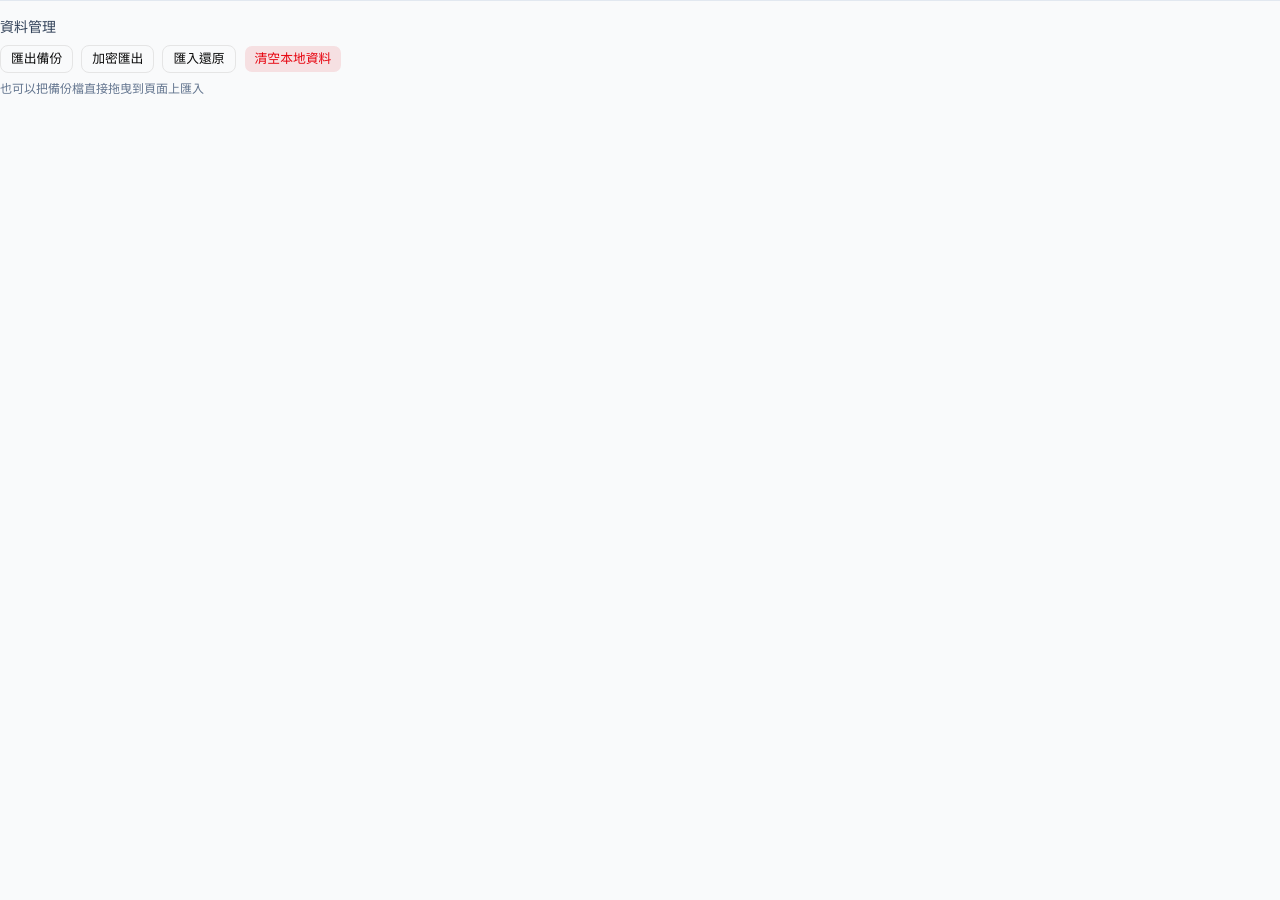
Test: DataManagement › 加密匯出 › 密碼少於 6 個字元：顯示錯誤，不呼叫匯出、不關閉對話框
Click the button "加密匯出" at (118, 59), box [81,45,154,73]
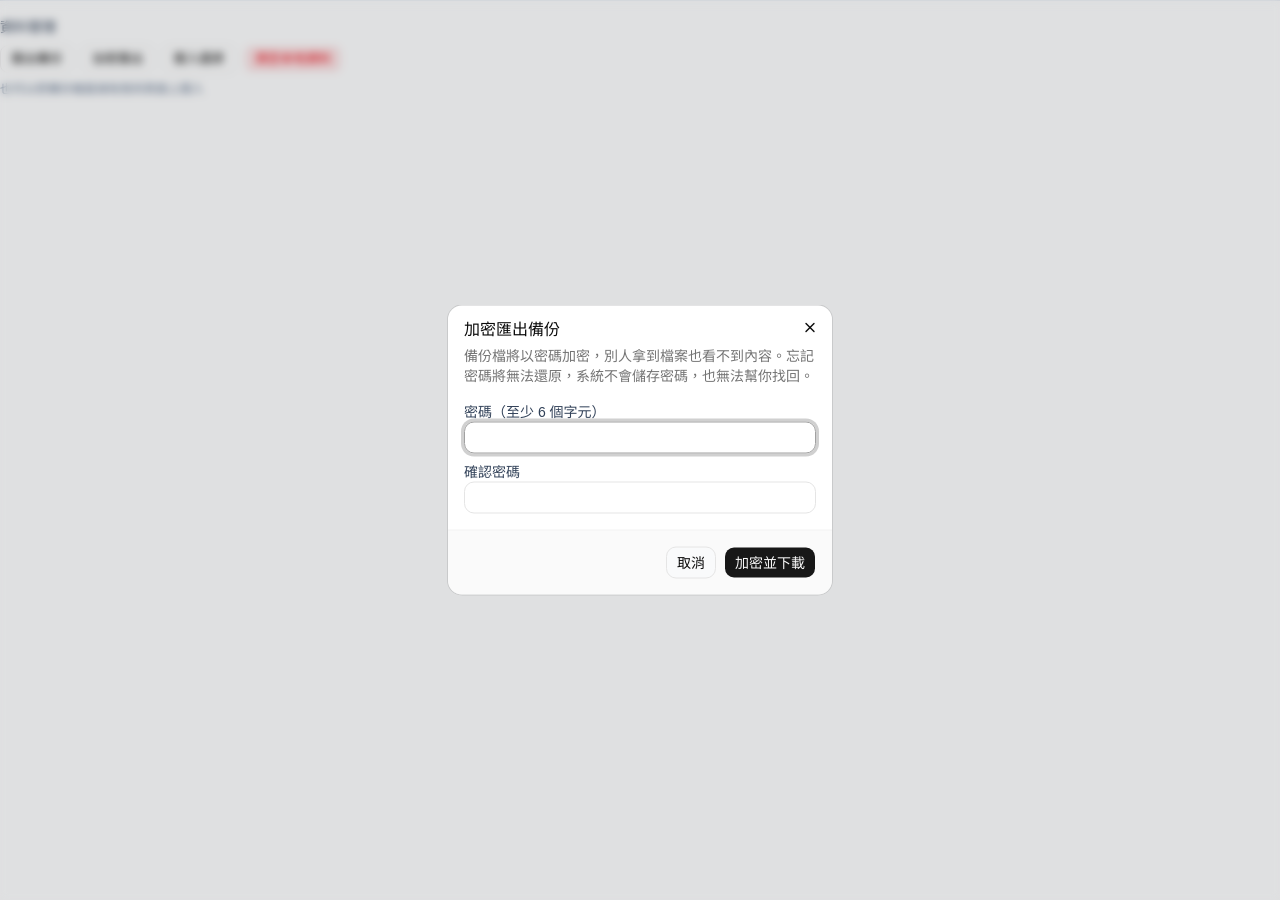
Type "12345" into the password field named "加密密碼" at (640, 438), box [464,422,816,454]
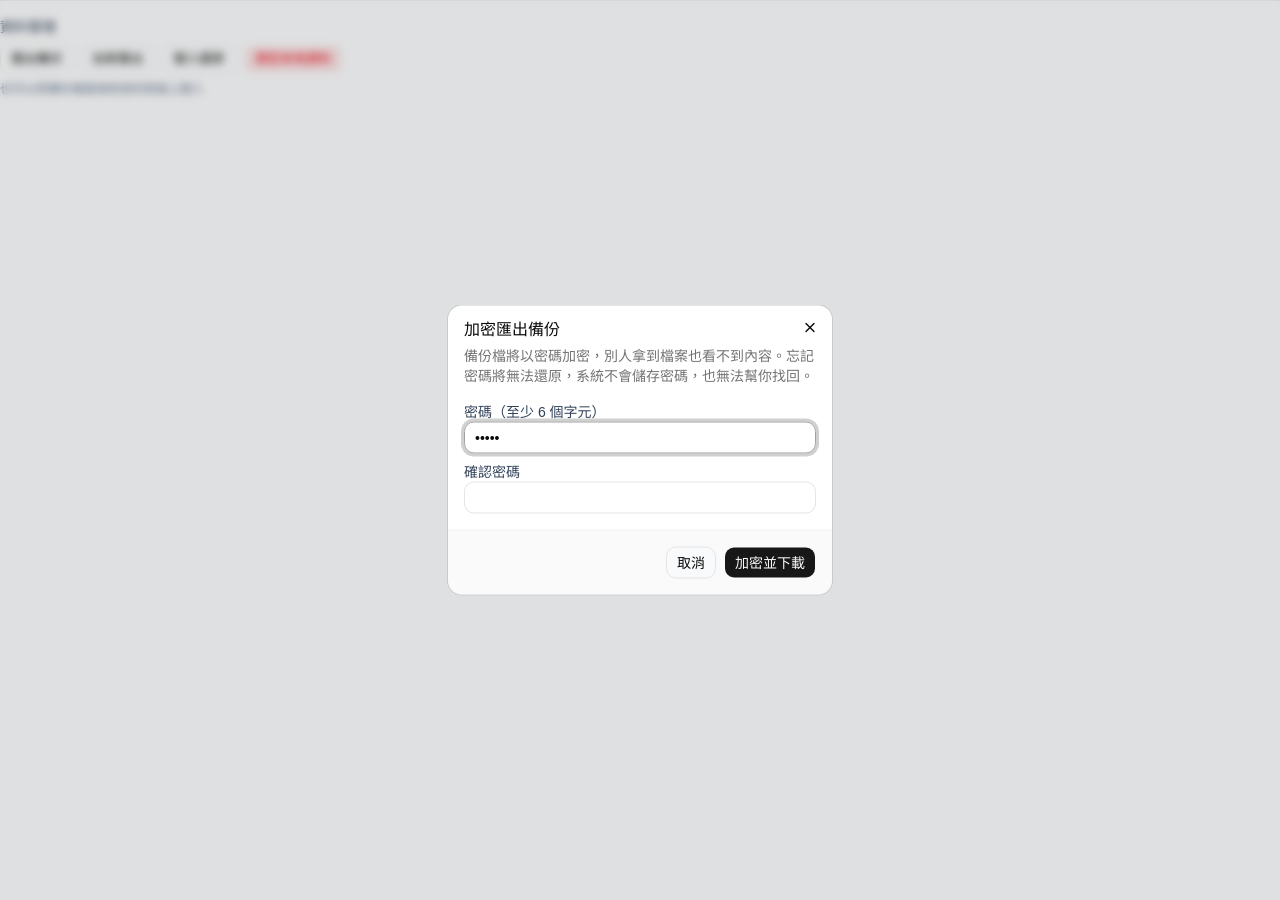
Type "12345" into the password field named "確認加密密碼" at (640, 498), box [464,482,816,514]
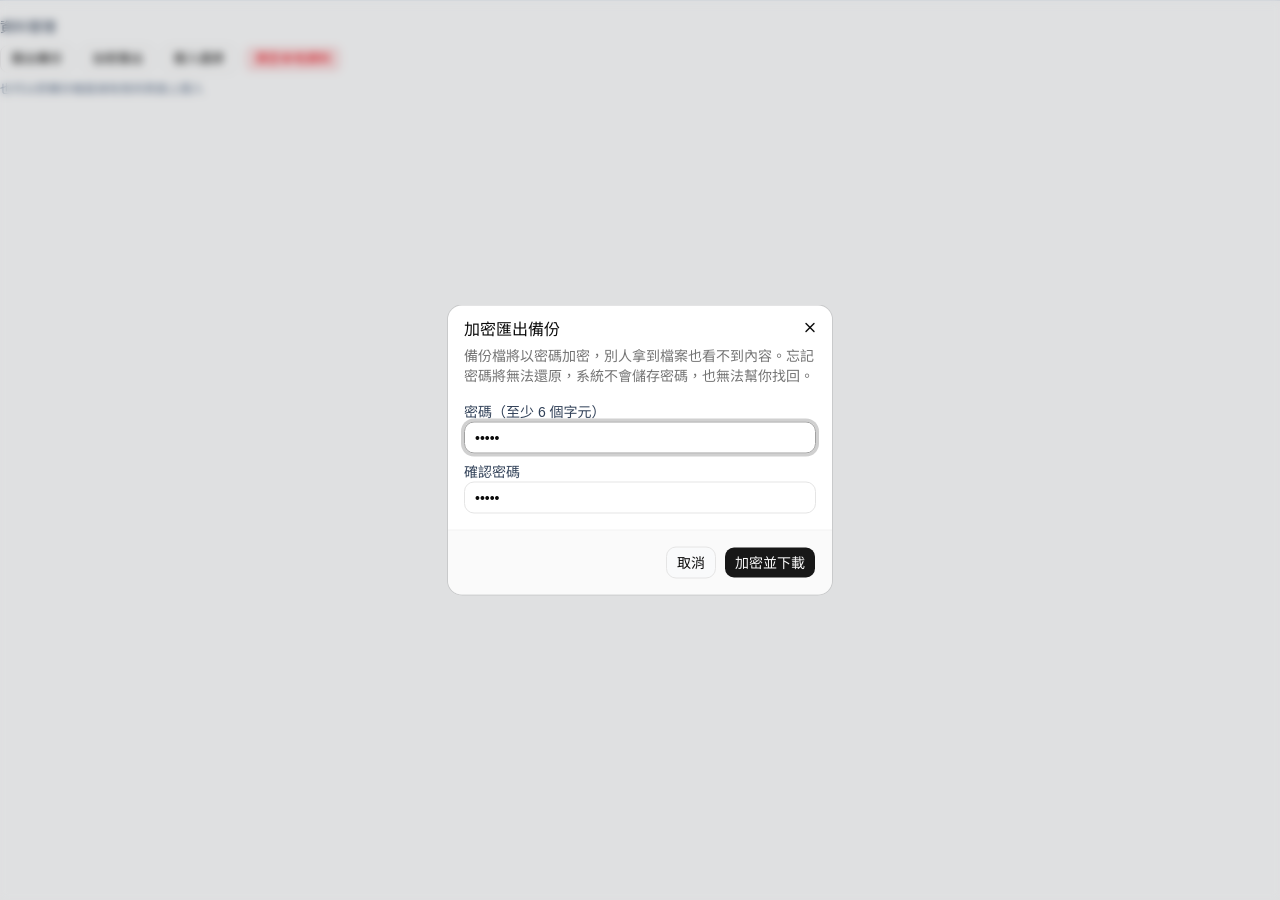
Click the button "加密並下載" at (770, 562), box [724,546,816,578]
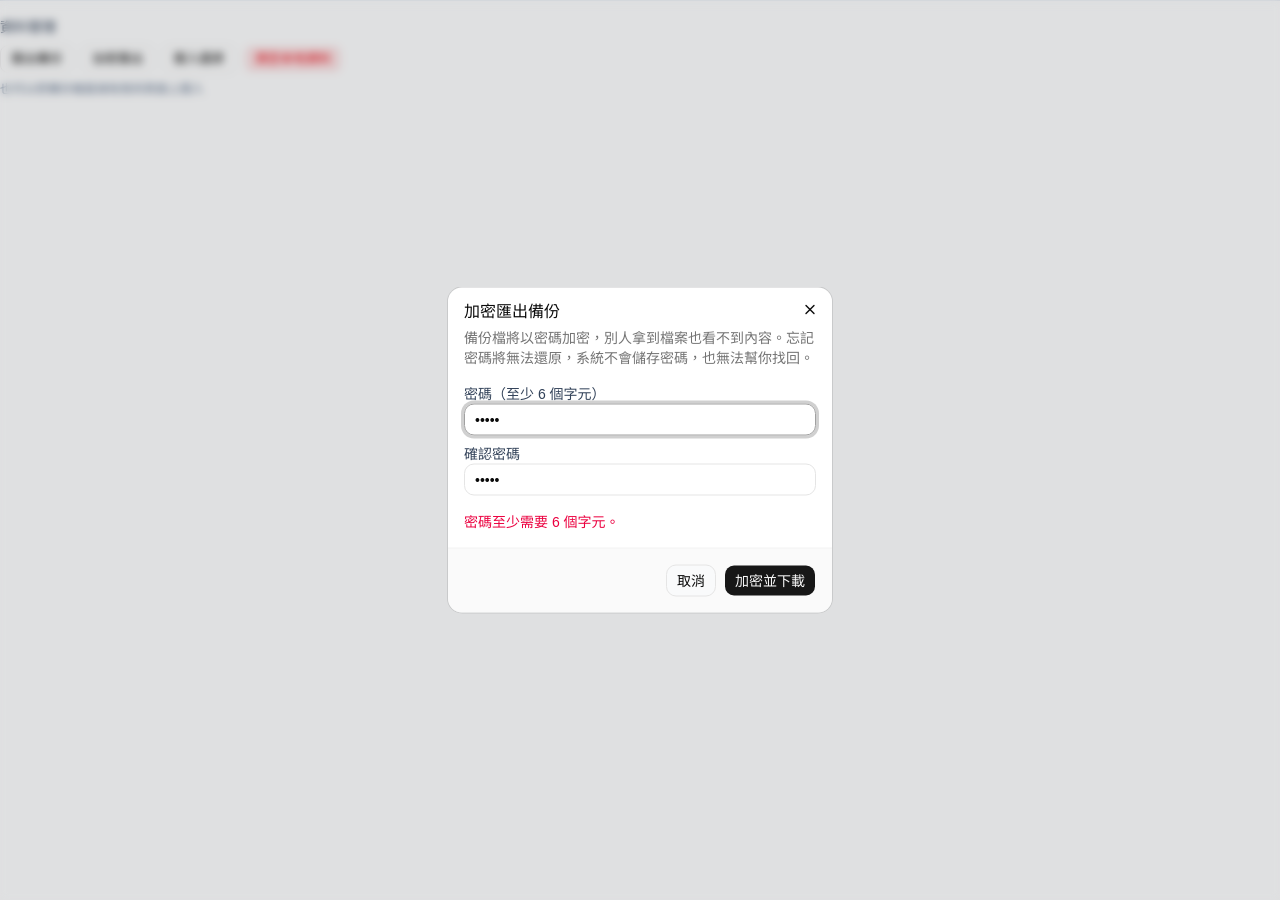
Expected: the heading "加密匯出備份" is shown, [464,302,560,320]
Expected: the text with test id "encrypt-error" shows "密碼至少需要 6 個字元", [464,514,620,530]
